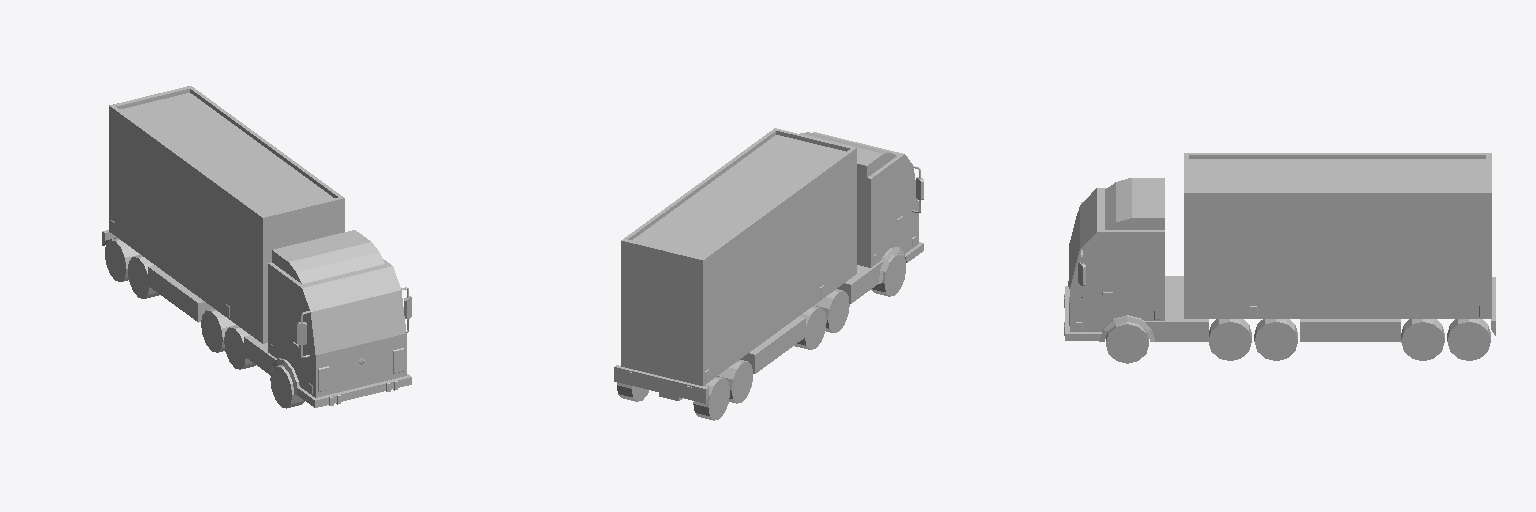
Rendered from Truck.obj.
The picture shows the model from 3 angles: view 1: azimuth 30°, elevation 25°; view 2: azimuth 150°, elevation 25°; view 3: azimuth 270°, elevation 25°; orthographic projection.
Parts seen in each view (by area): view 1: Truck; view 2: Truck; view 3: Truck.
Boxes of the visible parts, x1=… form: Truck: x1=102, y1=86, x2=411, y2=408; Truck: x1=614, y1=128, x2=923, y2=420; Truck: x1=1064, y1=153, x2=1495, y2=363.
Size of the model in its own units: 91.44 by 125 by 296.